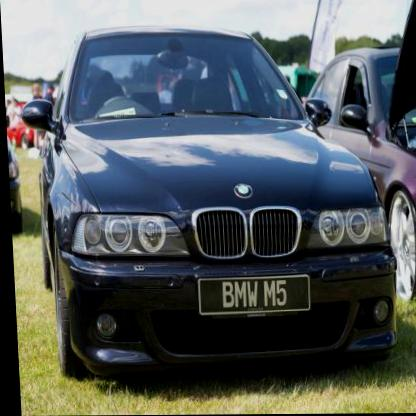License_Plate: (198, 275, 311, 317)
